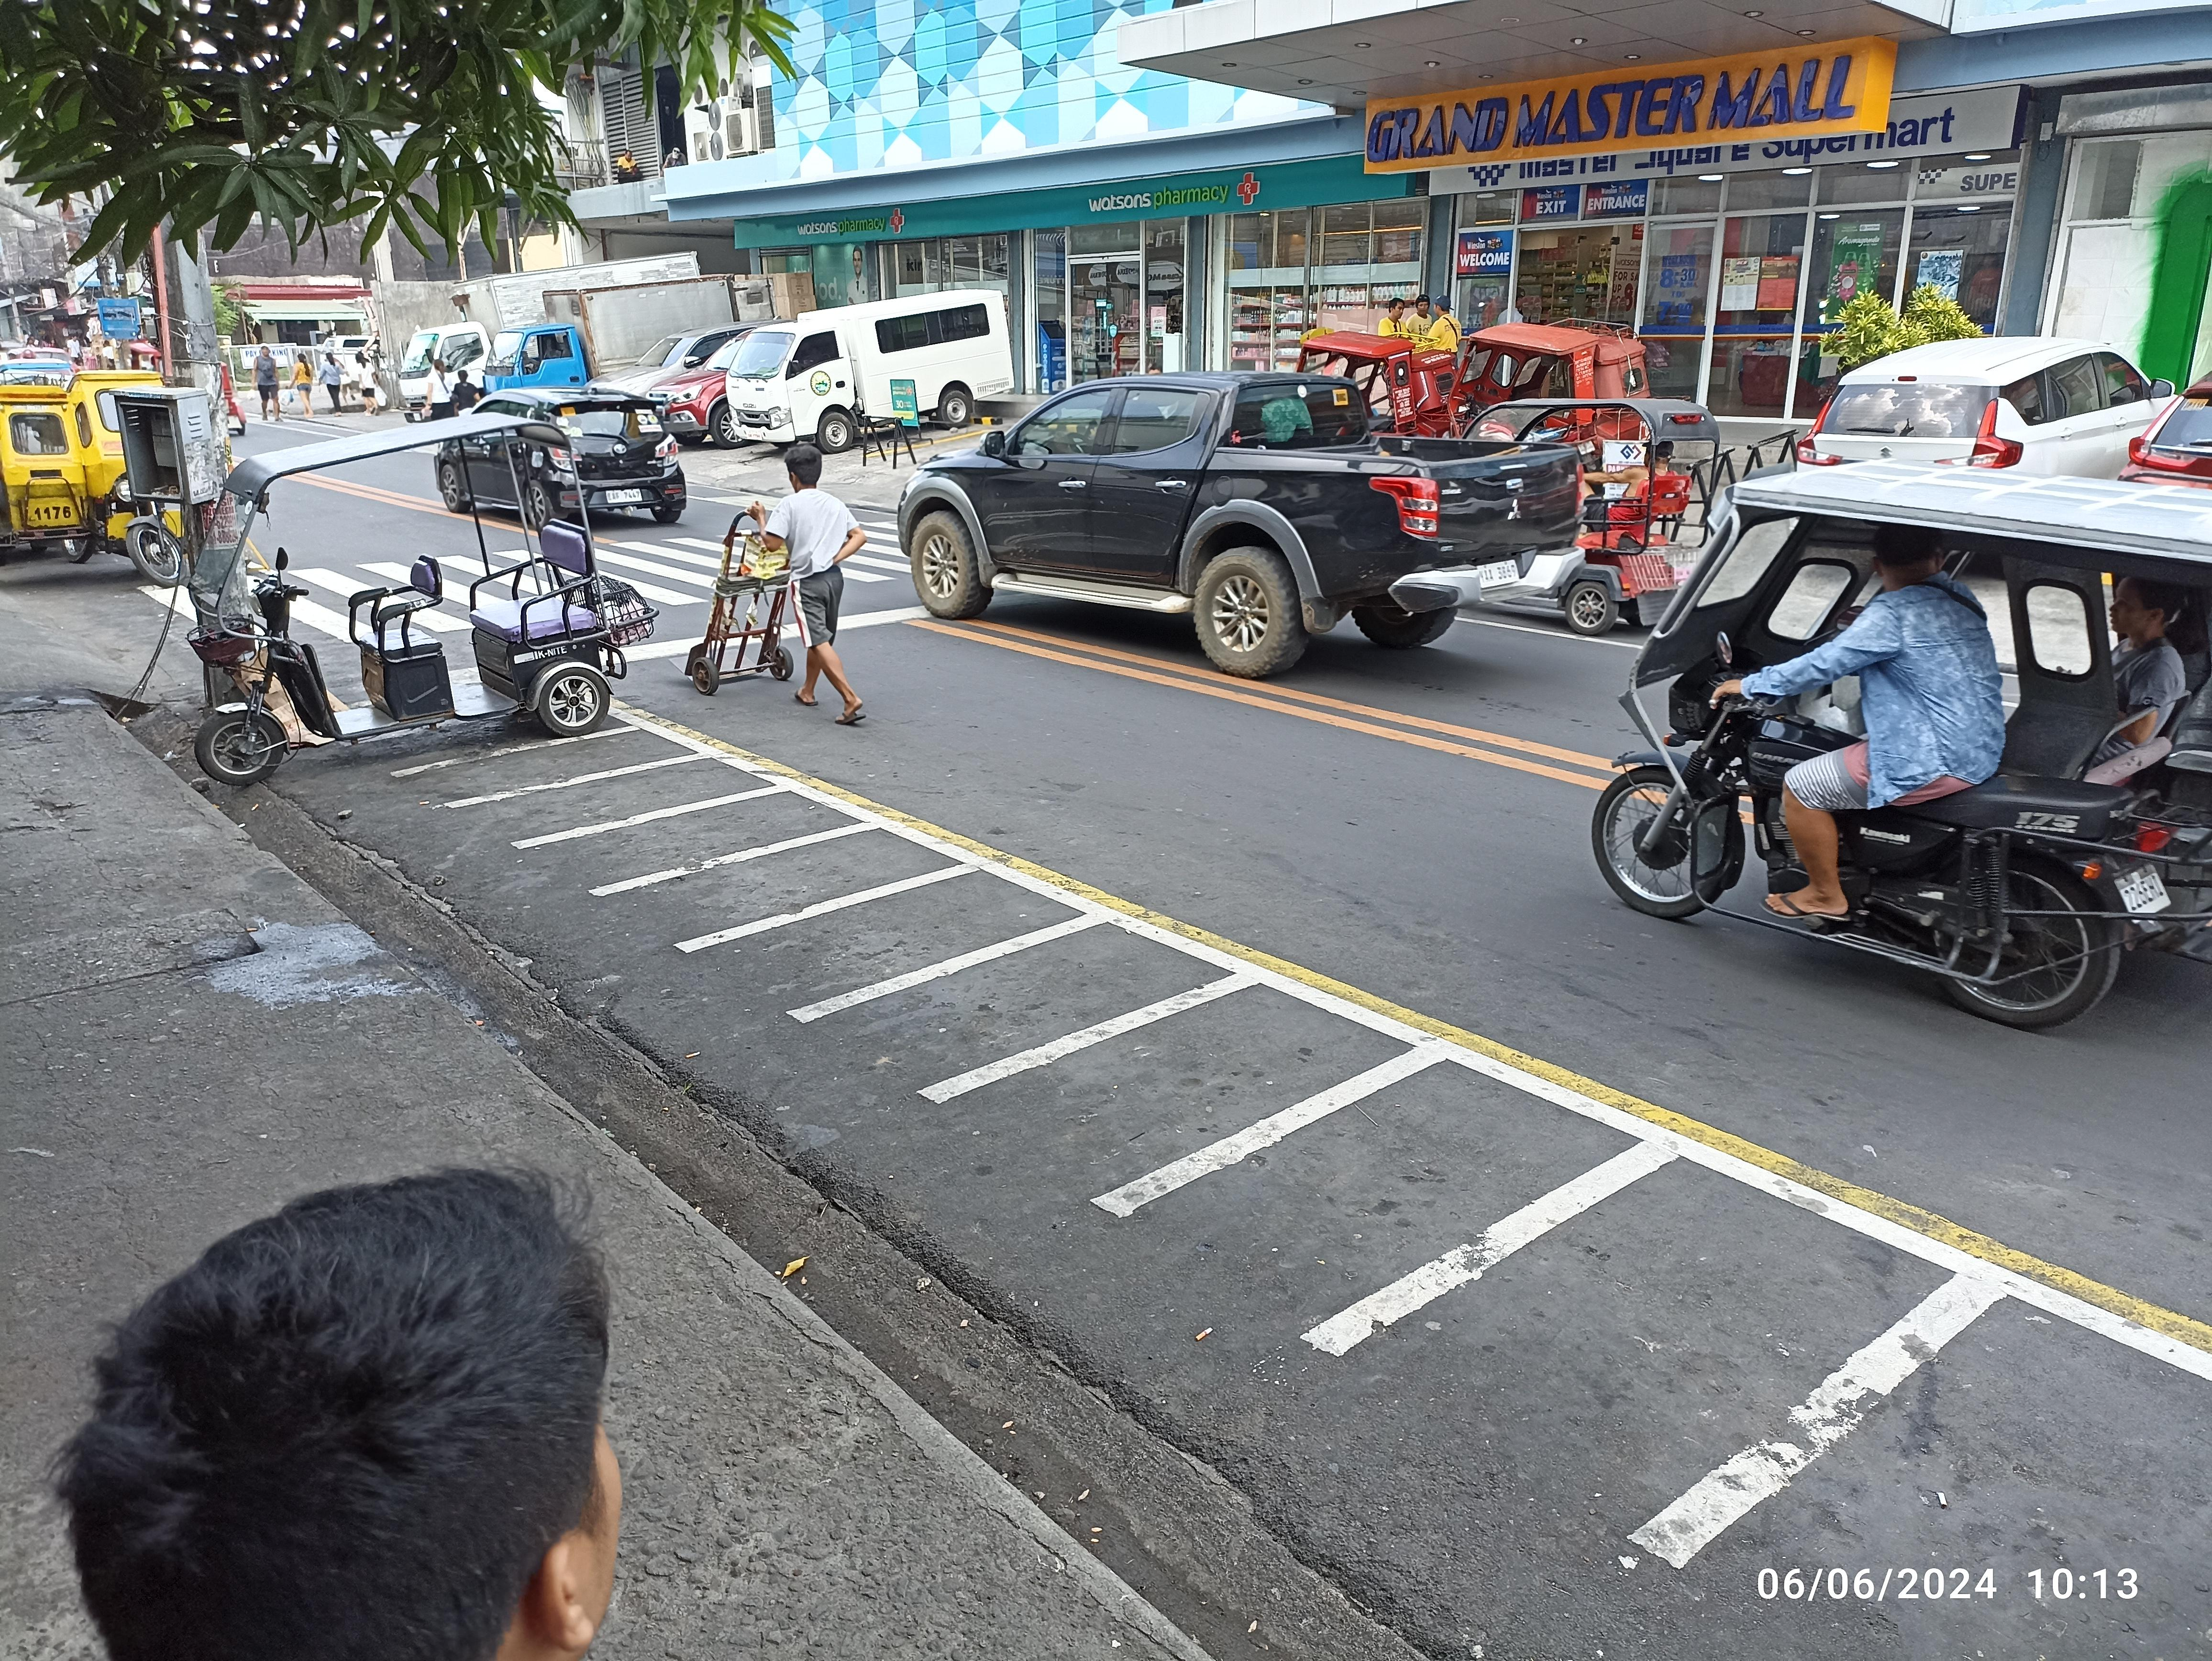vacant: (1294, 1129, 2022, 1574), (1089, 1036, 1699, 1361), (921, 967, 1471, 1223), (783, 909, 1279, 1104), (675, 857, 1123, 1022), (584, 817, 1000, 954), (509, 780, 895, 899), (443, 748, 809, 850), (389, 721, 727, 808)
